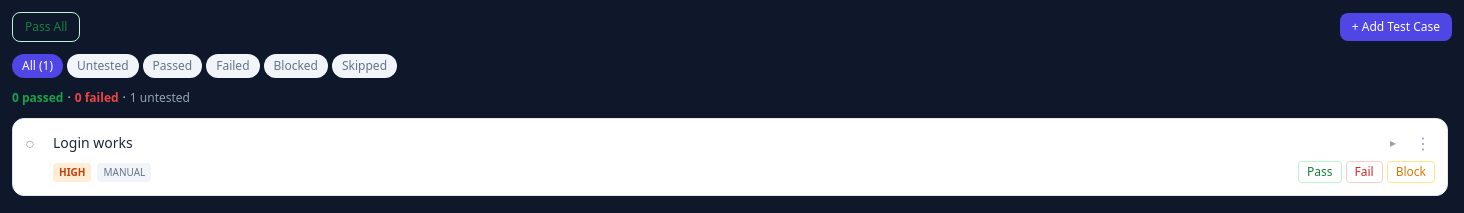
Test: CardTestsTab › filters the list by status
Expected: the text "Login works" is shown, x1=53 y1=133 x2=133 y2=152
Step 1. Click the button "passed" → (172, 66), box x1=143 y1=54 x2=202 y2=78
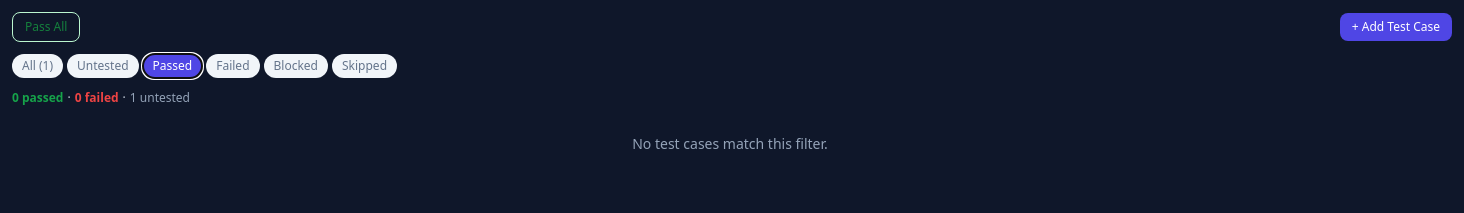
Expected: the text "Login works" is gone
Expected: the text "No test cases match this filter." is shown, x1=632 y1=134 x2=828 y2=153
